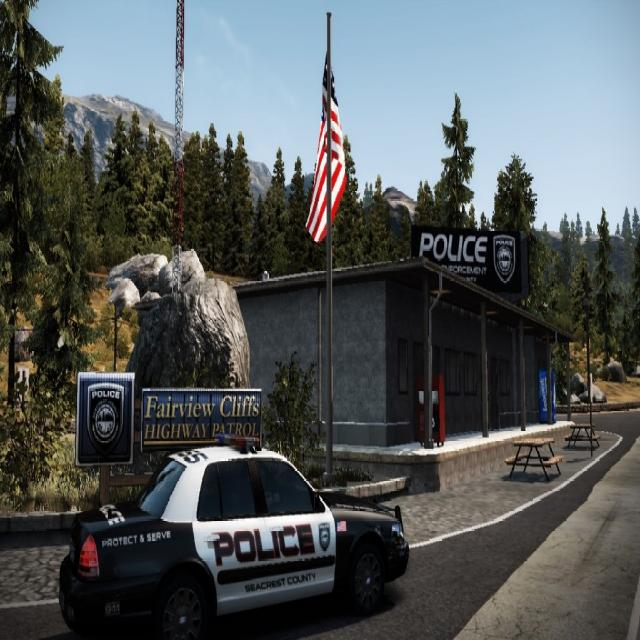other: (58, 435, 408, 638)
